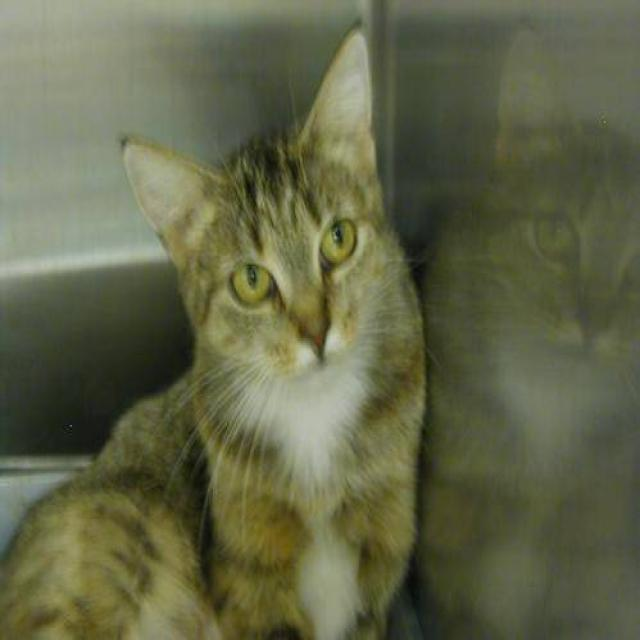cat: (0, 18, 428, 638)
